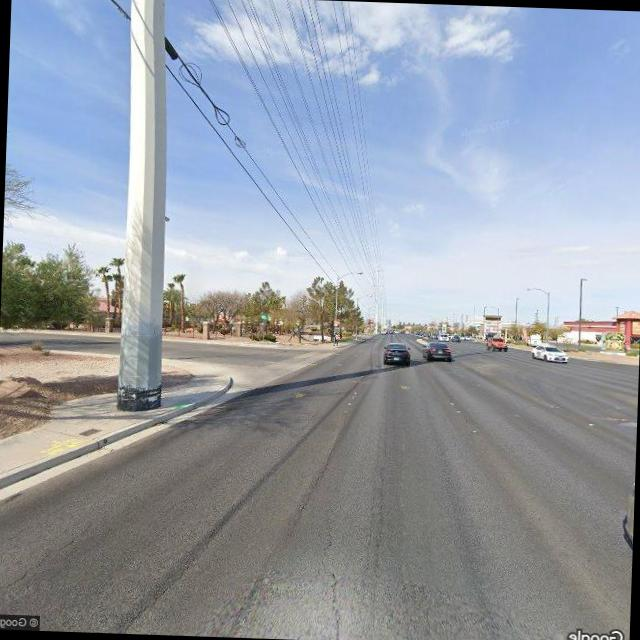pothole: (0, 528, 85, 611), (316, 533, 352, 638)
